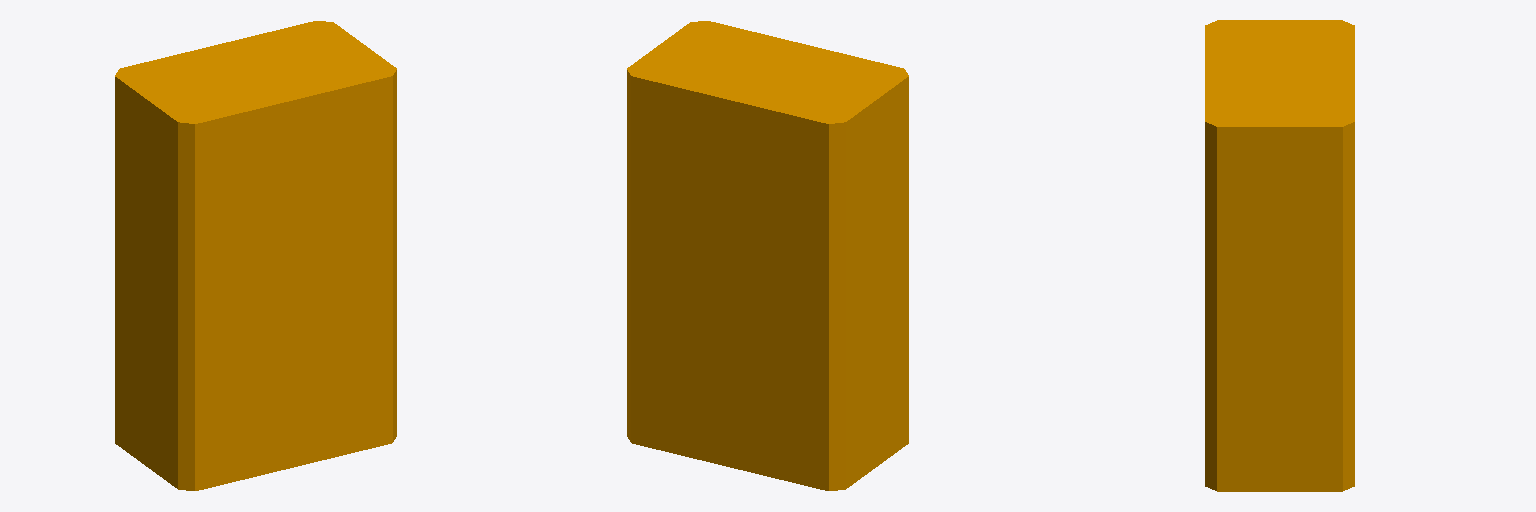
URDF robot description (peg_rectangle):
<?xml version="1.0"?>
<robot name="peg_rectangle">
    <link name="peg_rectangle">
        <visual>
            <geometry>
                <mesh filename="../mesh/vitascope_pegs/peg_rectangle.obj"/>
            </geometry>
        </visual>
        <collision>
            <geometry>
                <mesh filename="../mesh/vitascope_pegs/peg_rectangle.obj"/>
            </geometry>
            <sdf resolution="256"/>
        </collision>
    </link>
</robot>

--- Facts derived from the render (not from the file) ---
Views: 3 orthographic renders of the robot side by side, from view 1: azimuth 30°, elevation 25°; view 2: azimuth 150°, elevation 25°; view 3: azimuth 270°, elevation 25°.
Model peg_rectangle with 1 links and 0 joints (none), rooted at peg_rectangle, posed all joints at 0.
Links seen in each view (by area): view 1: peg_rectangle; view 2: peg_rectangle; view 3: peg_rectangle.
Boxes of the visible links, box(x1,y1,x2,y2) form: peg_rectangle: box(115, 21, 396, 490); peg_rectangle: box(627, 21, 908, 490); peg_rectangle: box(1205, 20, 1354, 491).
Bounding box of the posed robot: 0.05 × 0.03 × 0.08 m (x, y, z).
1 mesh visuals loaded from 1 distinct referenced files (1 OBJ).
